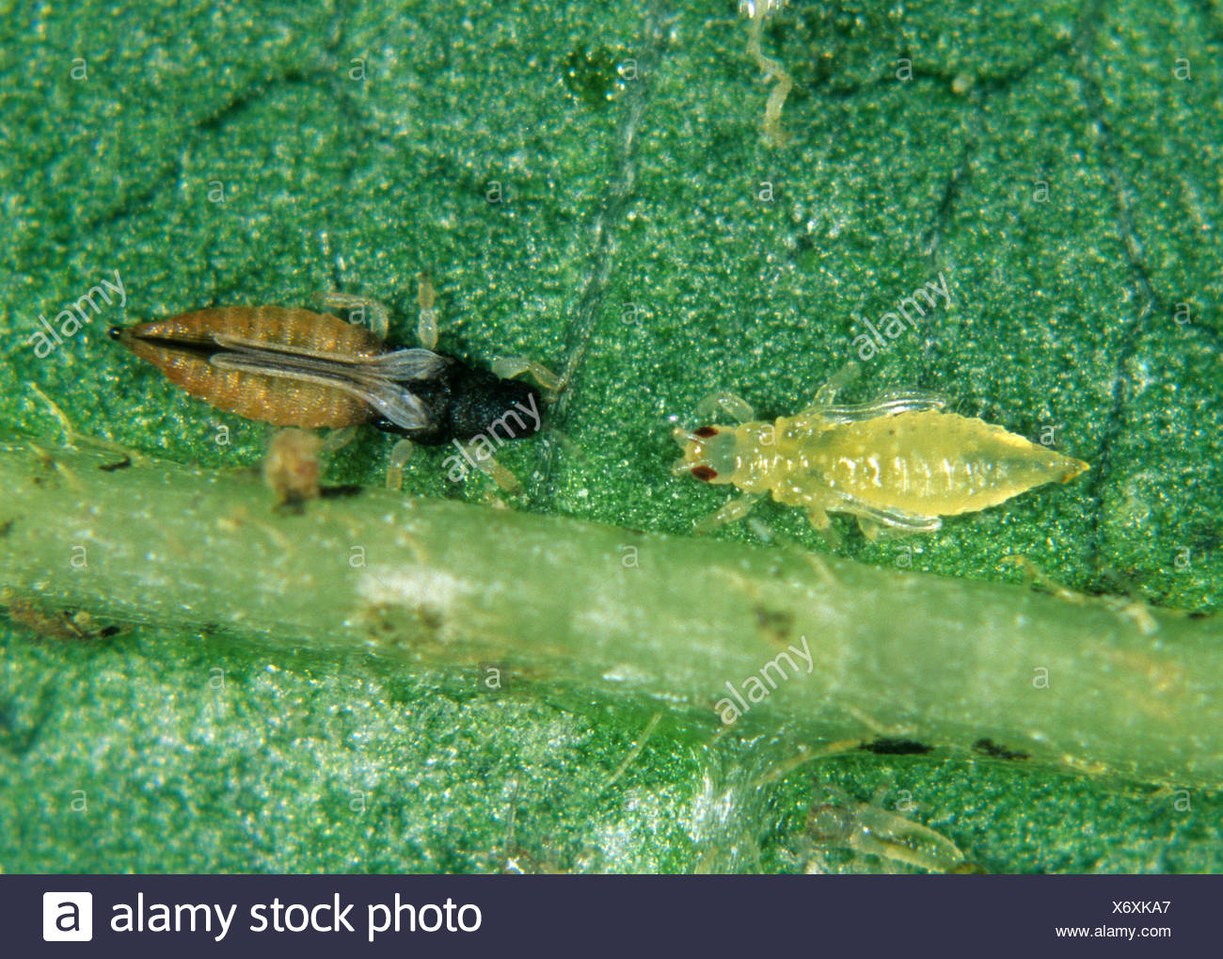Thripidae: (101, 269, 565, 488)
